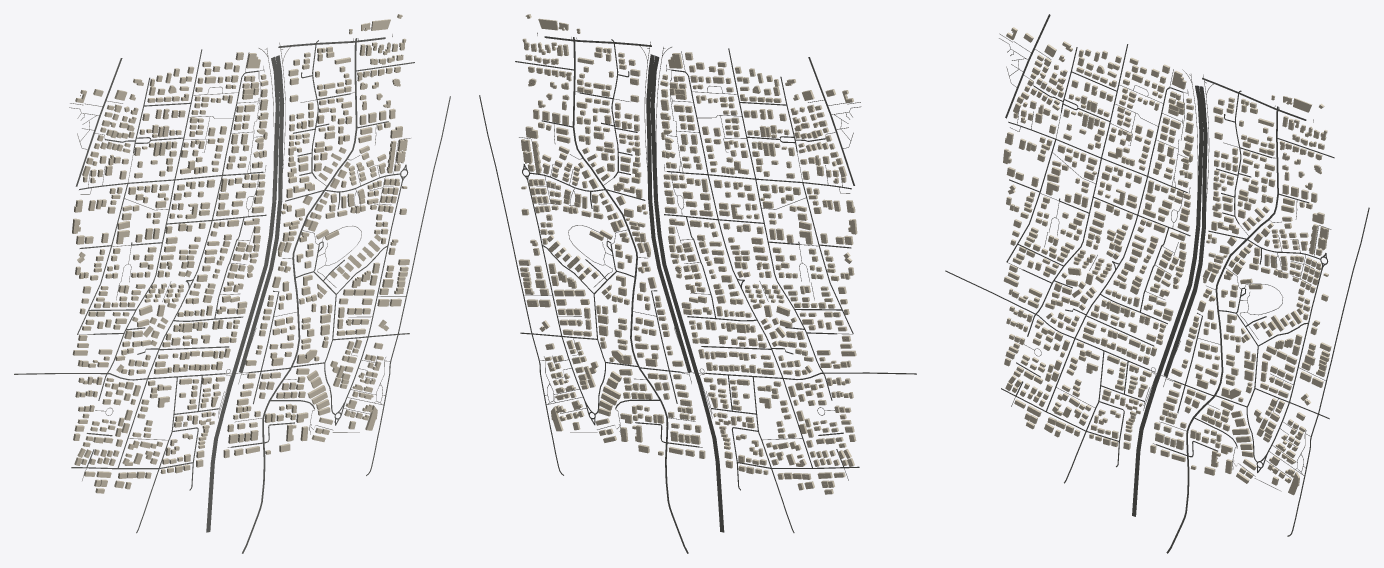
The model's file is historic-palestine-06_27_3481_3217.glb.
3 renders of one model, left to right at view 1: azimuth 30°, elevation 25°; view 2: azimuth 150°, elevation 25°; view 3: azimuth 330°, elevation 25°, orthographic. The views are drawn at different scales.
Parts seen in each view (by area): view 1: Road נורדאו, Road דרך תל-אביב.004, Road כביש תל-אביב נתניה, Road דרך תל-אביב, Road דרך תל-אביב.001, Road הזמר העברי; view 2: Road נורדאו, Road דרך תל-אביב.004, Road כביש תל-אביב נתניה, Road דרך תל-אביב, Road דרך תל-אביב.001, Road הזמר העברי; view 3: Road נורדאו, Road דרך תל-אביב.004, Road כביש תל-אביב נתניה, Road דרך תל-אביב.001, Road דרך תל-אביב, Road הזמר העברי.
Boxes of the visible parts, bbox=[...] form: Road נורדאו: bbox=[242, 38, 357, 553]; Road דרך תל-אביב.004: bbox=[231, 201, 276, 376]; Road כביש תל-אביב נתניה: bbox=[242, 201, 282, 361]; Road דרך תל-אביב: bbox=[275, 55, 284, 201]; Road דרך תל-אביב.001: bbox=[271, 56, 279, 201]; Road הזמר העברי: bbox=[366, 96, 450, 475]; Road נורדאו: bbox=[572, 37, 688, 553]; Road דרך תל-אביב.004: bbox=[654, 201, 699, 376]; Road כביש תל-אביב נתניה: bbox=[648, 200, 688, 361]; Road דרך תל-אביב: bbox=[646, 54, 654, 200]; Road דרך תל-אביב.001: bbox=[650, 55, 659, 201]; Road הזמר העברי: bbox=[479, 95, 563, 475]; Road נורדאו: bbox=[1166, 106, 1278, 553]; Road דרך תל-אביב.004: bbox=[1156, 226, 1199, 377]; Road כביש תל-אביב נתניה: bbox=[1166, 228, 1205, 367]; Road דרך תל-אביב.001: bbox=[1195, 85, 1203, 226]; Road דרך תל-אביב: bbox=[1199, 86, 1207, 229]; Road הזמר העברי: bbox=[1287, 207, 1369, 536].
Size of the model in its own units: 1257 by 1446 by 9.01.
